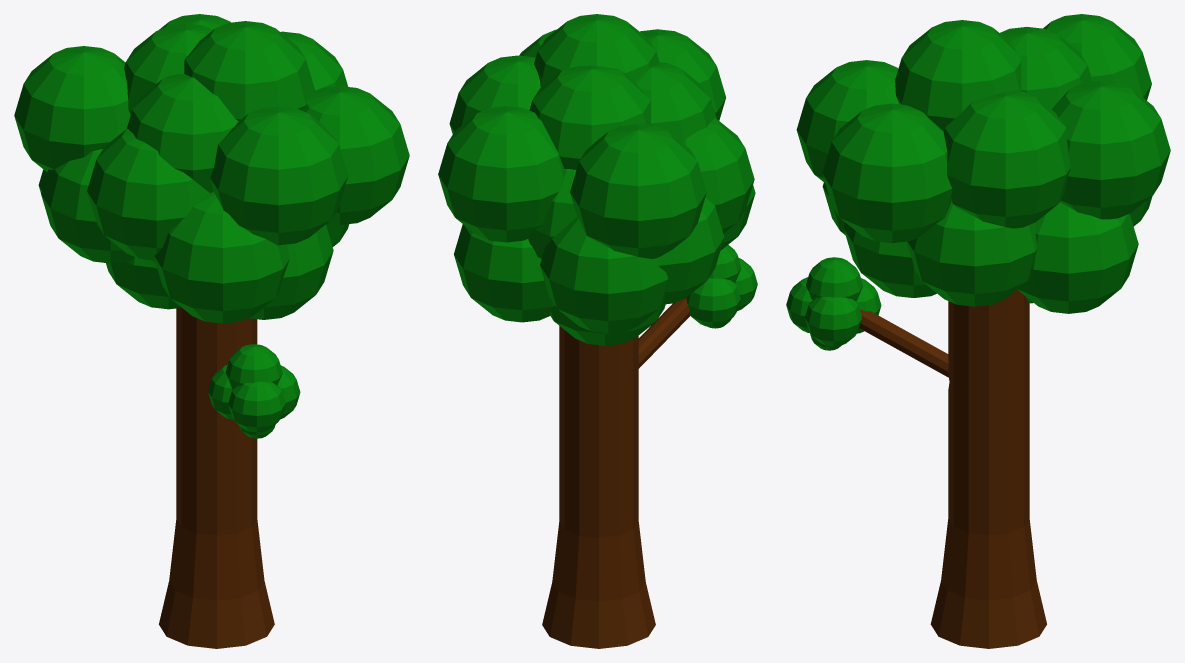
Rendered from Tree 1.fbx.
3 renders of one model, left to right at view 1: azimuth 30°, elevation 25°; view 2: azimuth 150°, elevation 25°; view 3: azimuth 270°, elevation 25°, orthographic. The views are drawn at different scales.
Visible parts, largest first — view 1: Sphere, Cylinder; view 2: Sphere, Cylinder; view 3: Sphere, Cylinder.
Boxes of the visible parts, box(x1,y1,x2,y2) form: Sphere: box(14, 14, 409, 438); Cylinder: box(159, 306, 274, 648); Sphere: box(438, 14, 757, 345); Cylinder: box(542, 298, 690, 648); Sphere: box(786, 14, 1170, 350); Cylinder: box(859, 289, 1046, 648).
Bounding box in the file's own units: 552 × 1126 × 648.
